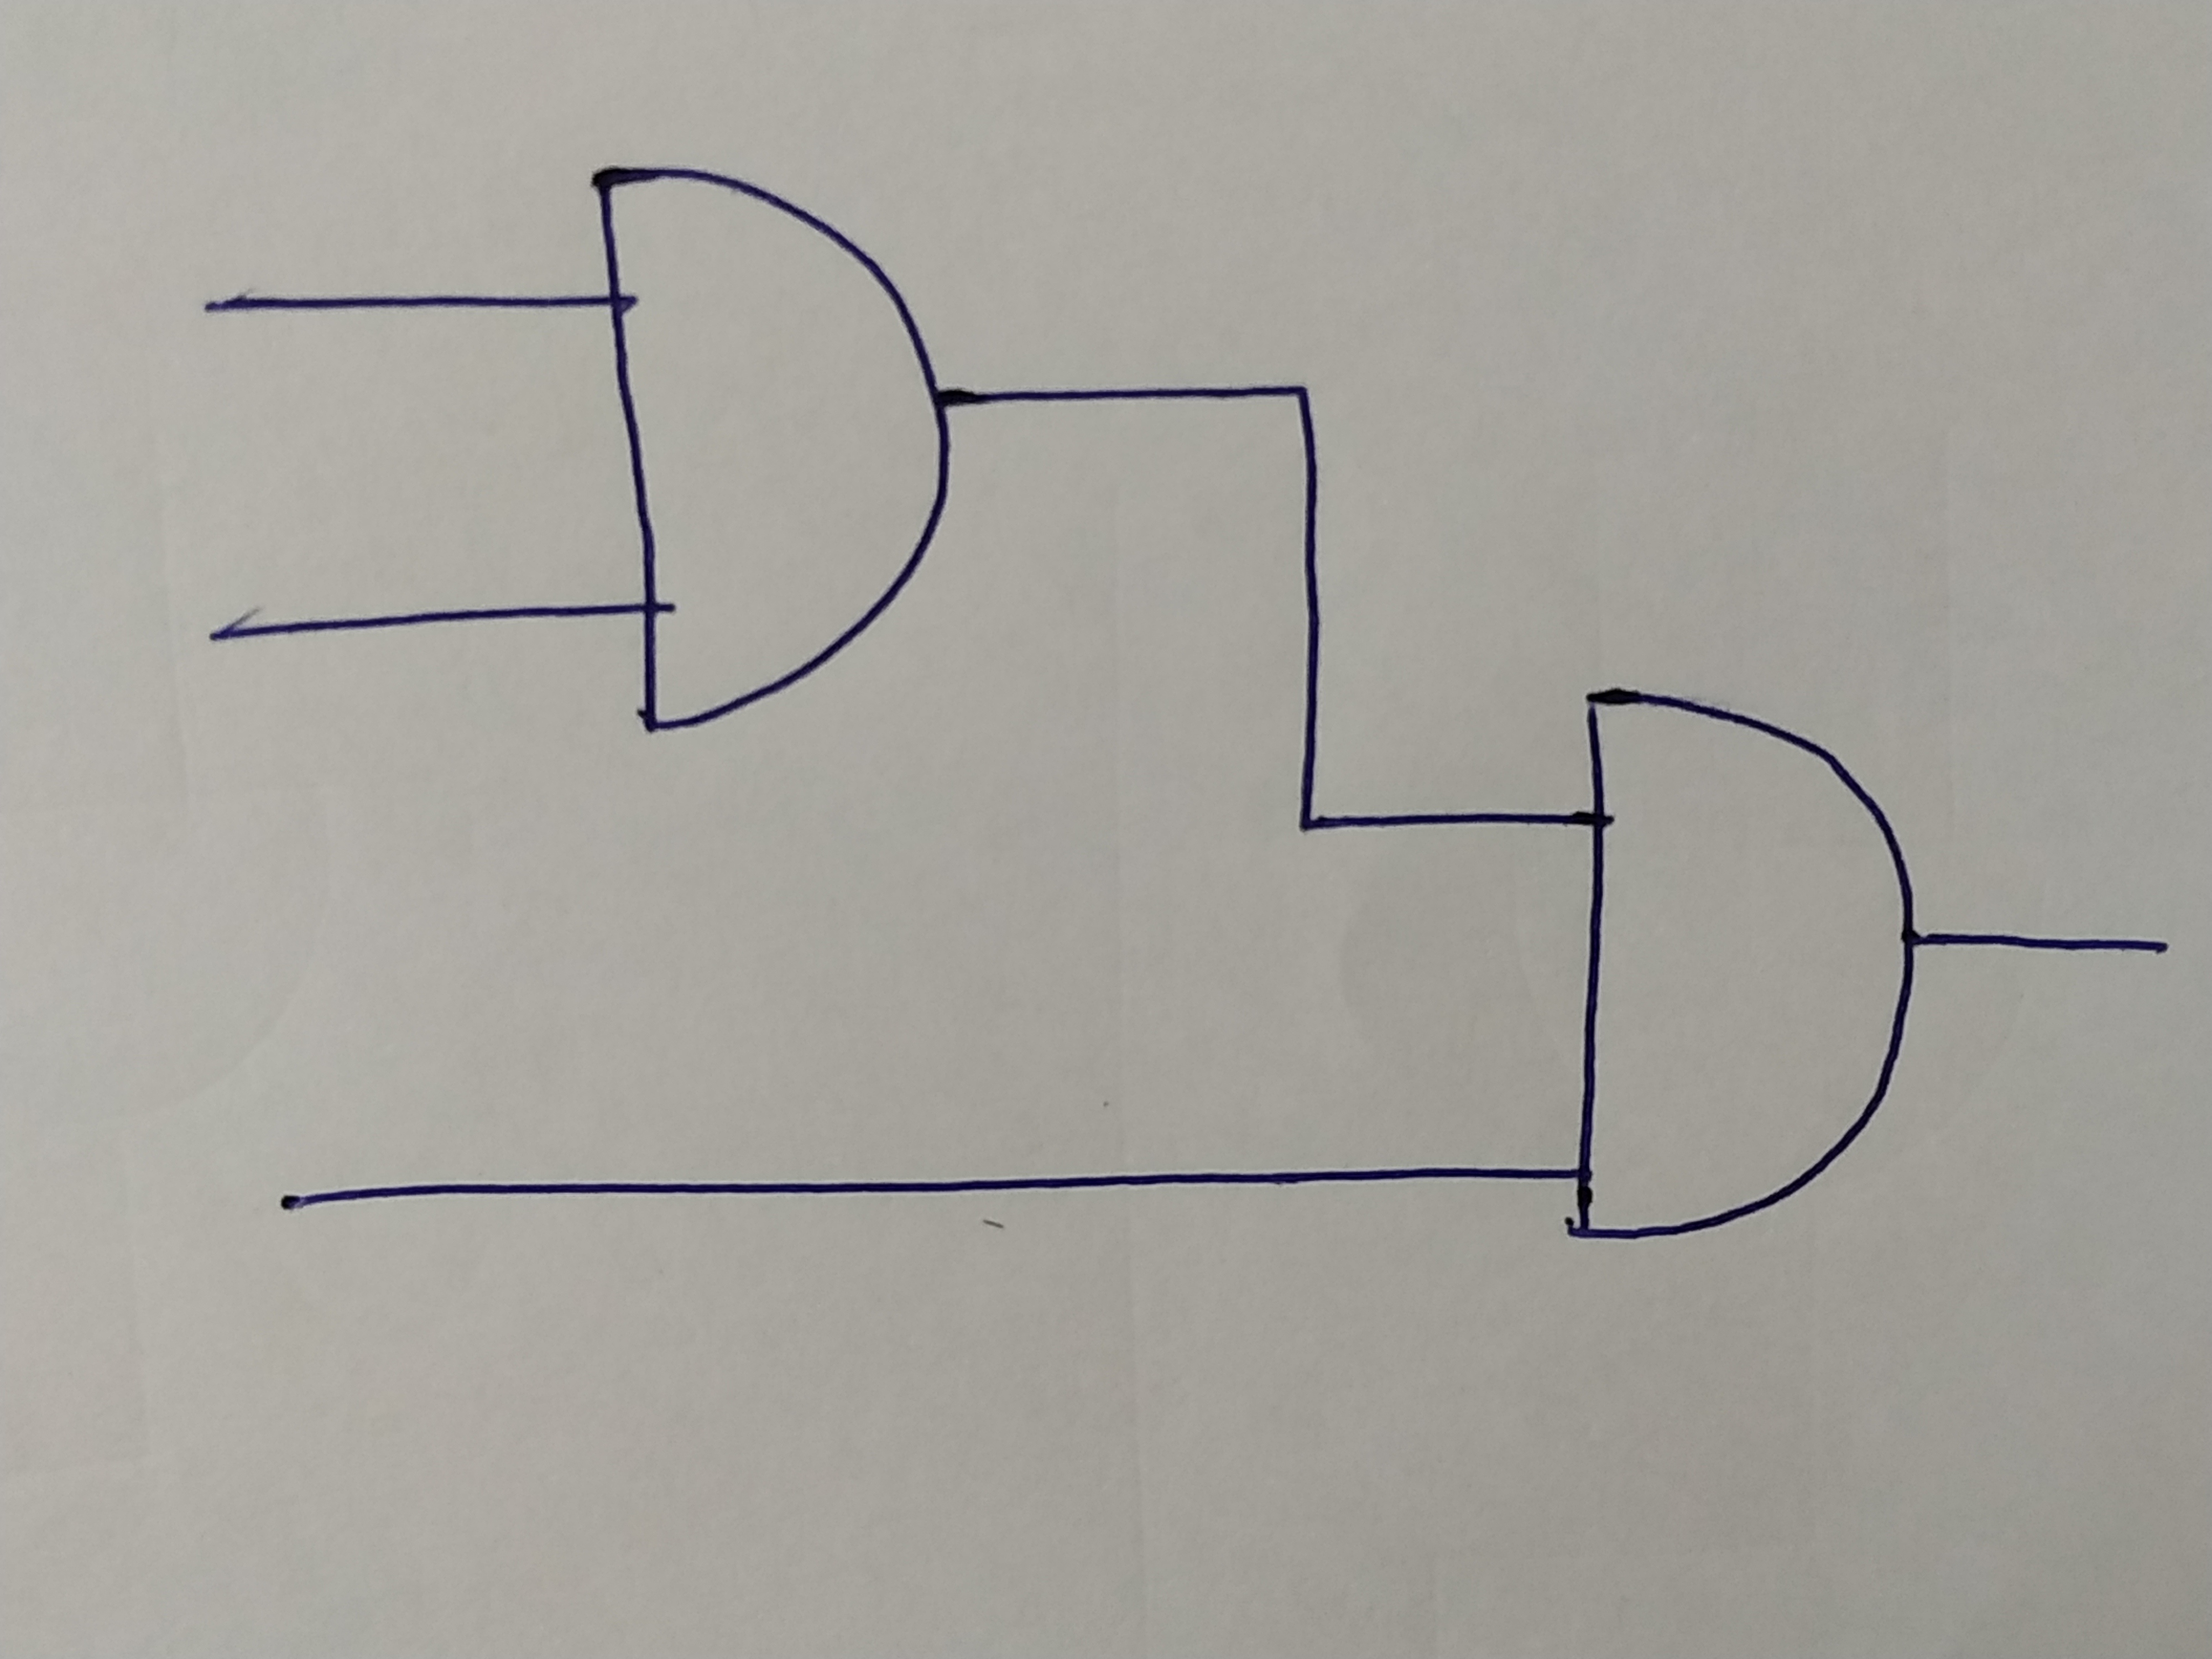and: (582, 164, 960, 728), (1580, 690, 1918, 1239)
